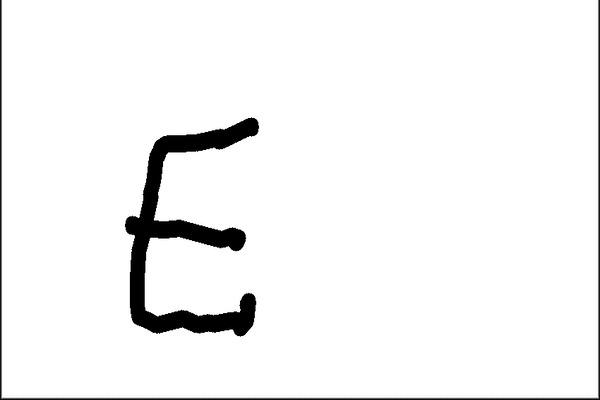E: (116, 113, 265, 338)
